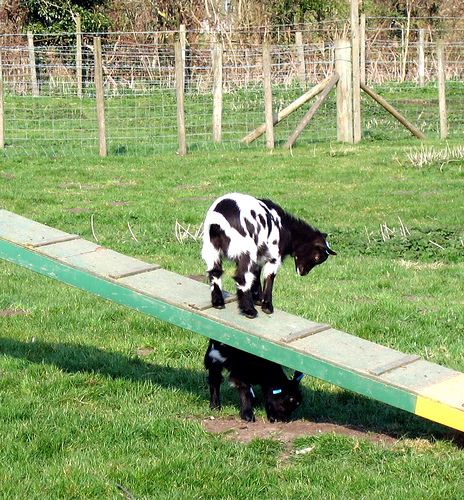goat: (199, 192, 336, 320), (204, 337, 307, 426)
